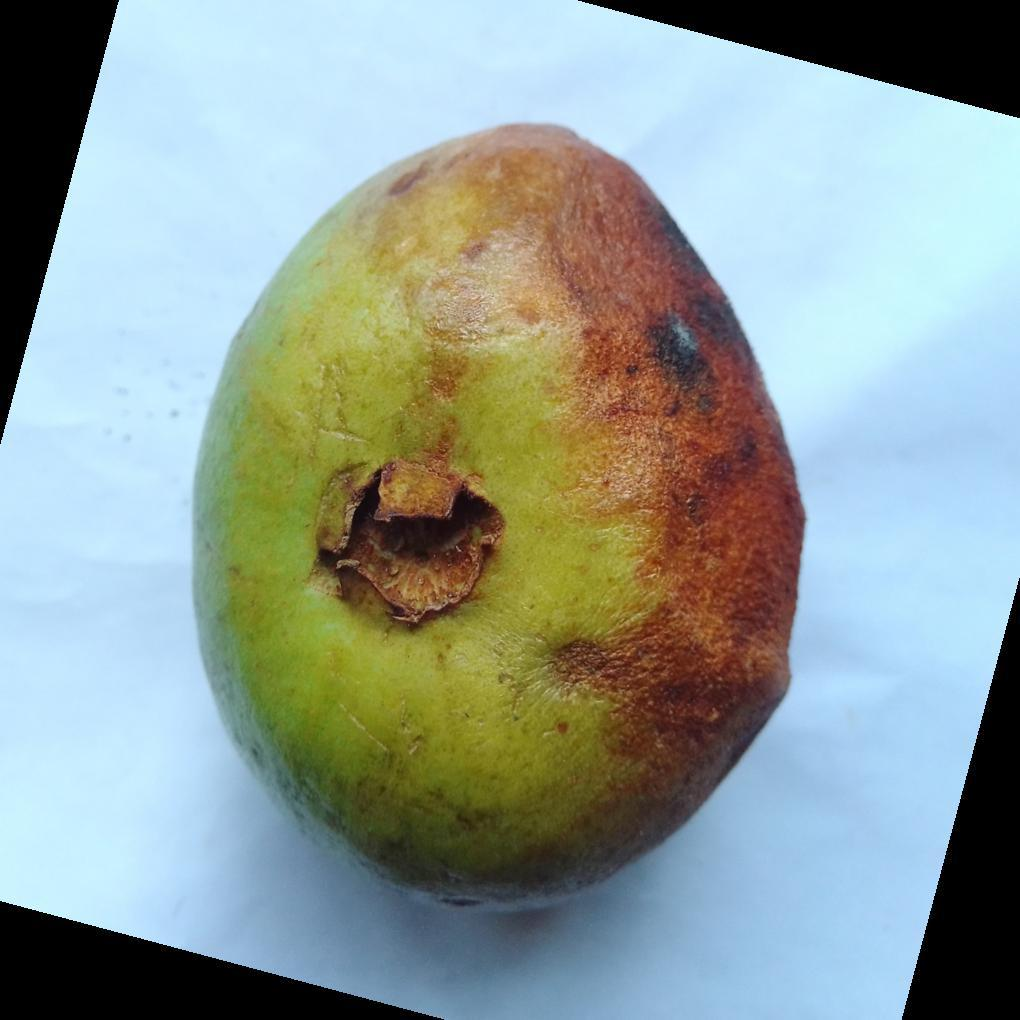FreshOrange: (188, 123, 807, 915)
